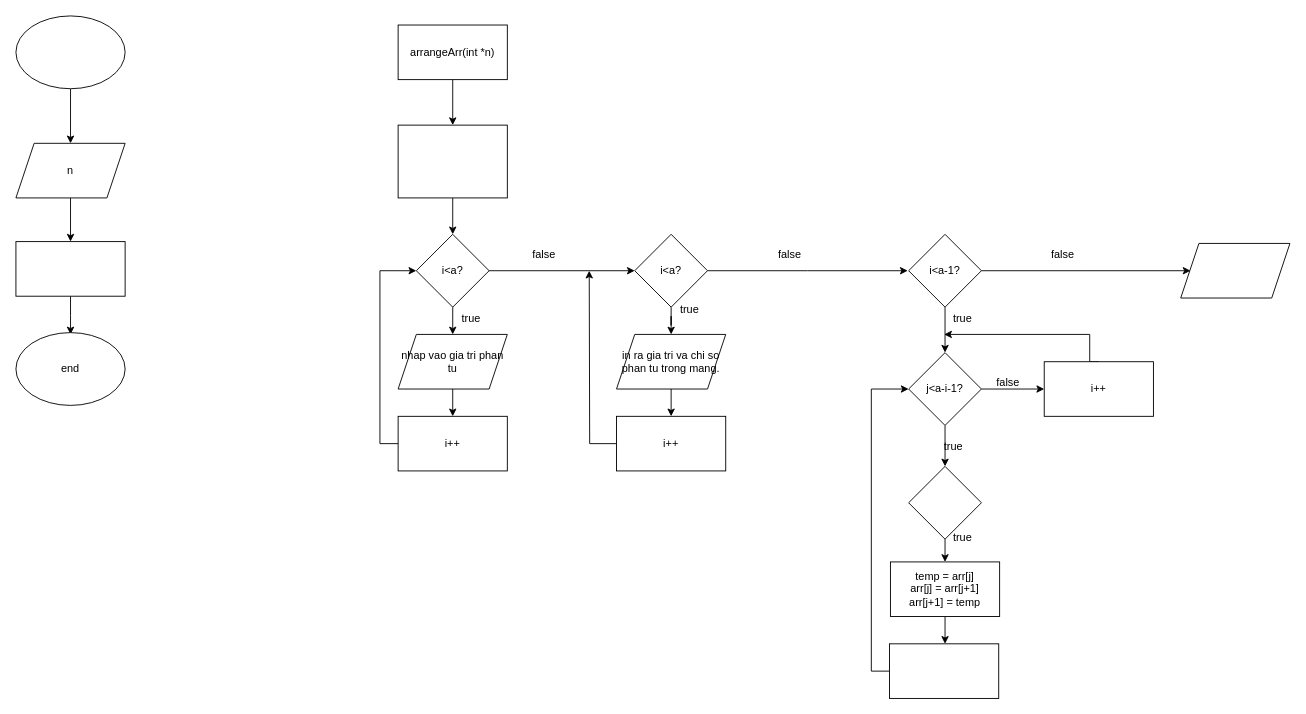
Image size: 1306x714. Some labels were removed from this diagram. Each missing label, with the box of its shape:
a = *n a = i a = j a = temp arr[a]: (397, 124, 507, 198)
arr[j] > arr[j+1]?: (908, 465, 981, 539)
arrangeArr(&n): (15, 241, 125, 296)
gia tri va chi so phan tu sau khi sap xep: (1180, 243, 1290, 298)
j++: (889, 643, 999, 698)
start: (15, 15, 125, 89)
